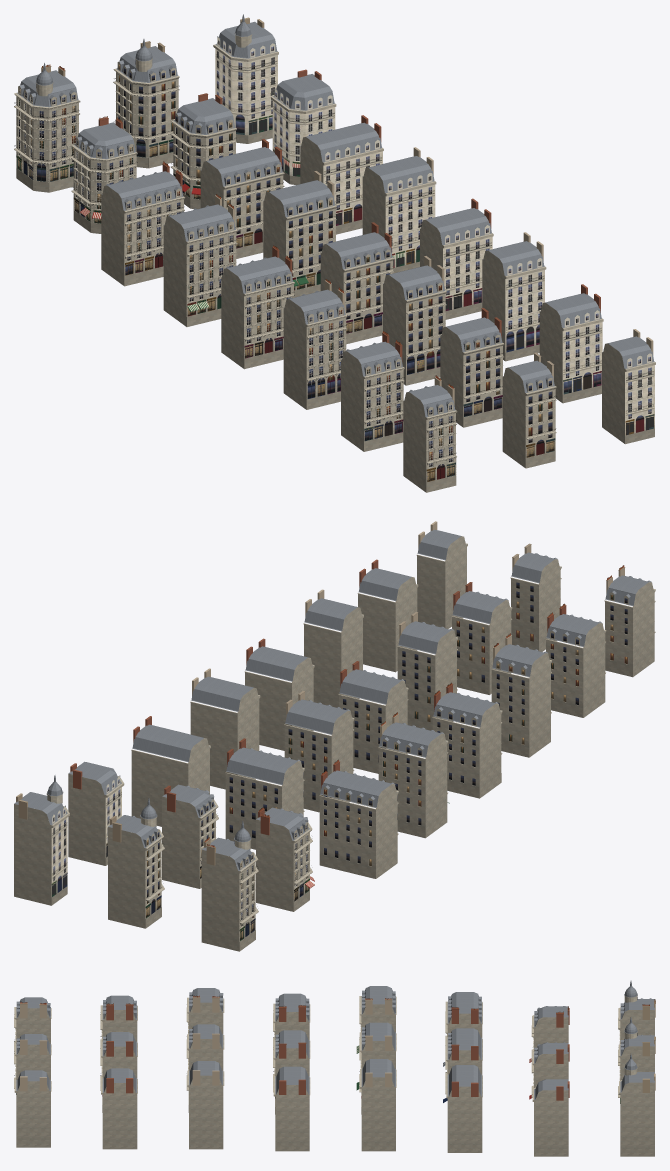
Rendered from haussmann.glb.
3 renders of one model, top to bottom at view 1: azimuth 30°, elevation 25°; view 2: azimuth 150°, elevation 25°; view 3: azimuth 270°, elevation 25°, orthographic. The views are drawn at different scales.
Visible parts, largest first — view 1: lot5b_near, lot6a_near, corner_b_near, lot5a_near, lot4b_near, lot4a_near, corner_b_mid, corner_b_far, lot5b_far, lot5b_mid, lot4b_mid, lot4b_far (+12 smaller); view 2: lot6a_near, lot5b_near, corner_b_near, corner_b_mid, corner_b_far, lot5a_near, lot4b_near, lot4a_near, lot6a_mid, lot6a_far, corner_a_near, lot5b_mid (+12 smaller); view 3: lot5b_far, corner_b_far, lot6a_far, lot4b_far, lot5a_far, lot4a_far, corner_a_far, lot3a_far, lot6a_mid, lot5b_mid, lot4b_mid, corner_a_mid (+12 smaller).
Boxes of the visible parts, x1=… form: lot5b_near: x1=163, y1=194, x2=237, y2=326; lot6a_near: x1=101, y1=161, x2=185, y2=286; corner_b_near: x1=14, y1=63, x2=80, y2=192; lot5a_near: x1=221, y1=245, x2=294, y2=369; lot4b_near: x1=283, y1=279, x2=347, y2=409; lot4a_near: x1=341, y1=331, x2=404, y2=451; corner_b_mid: x1=113, y1=39, x2=179, y2=168; corner_b_far: x1=213, y1=14, x2=278, y2=143; lot5b_far: x1=362, y1=147, x2=436, y2=273; lot5b_mid: x1=263, y1=171, x2=336, y2=297; lot4b_mid: x1=383, y1=256, x2=446, y2=385; lot4b_far: x1=482, y1=232, x2=546, y2=361; lot6a_near: x1=319, y1=759, x2=398, y2=878; lot5b_near: x1=378, y1=712, x2=449, y2=838; corner_b_near: x1=201, y1=821, x2=258, y2=951; corner_b_mid: x1=108, y1=798, x2=164, y2=928; corner_b_far: x1=14, y1=775, x2=69, y2=905; lot5a_near: x1=432, y1=682, x2=502, y2=798; lot4b_near: x1=491, y1=633, x2=551, y2=757; lot4a_near: x1=545, y1=603, x2=606, y2=717; lot6a_mid: x1=225, y1=738, x2=304, y2=849; lot6a_far: x1=131, y1=716, x2=210, y2=826; corner_a_near: x1=256, y1=807, x2=314, y2=911; lot5b_mid: x1=284, y1=691, x2=354, y2=812; lot5b_far: x1=360, y1=1059, x2=396, y2=1151; corner_b_far: x1=619, y1=1053, x2=655, y2=1156; lot6a_far: x1=446, y1=1065, x2=482, y2=1152; lot4b_far: x1=187, y1=1061, x2=224, y2=1149; lot5a_far: x1=273, y1=1066, x2=310, y2=1151; lot4a_far: x1=101, y1=1068, x2=137, y2=1149; corner_a_far: x1=532, y1=1079, x2=569, y2=1156; lot3a_far: x1=14, y1=1070, x2=51, y2=1147; lot6a_mid: x1=443, y1=1028, x2=482, y2=1102; lot5b_mid: x1=356, y1=1022, x2=396, y2=1114; lot4b_mid: x1=186, y1=1024, x2=224, y2=1112; corner_a_mid: x1=529, y1=1042, x2=569, y2=1099.
Size of the model in its own units: 81.31 by 35.8 by 223.
Materials: 14 (13 with a texture image).
